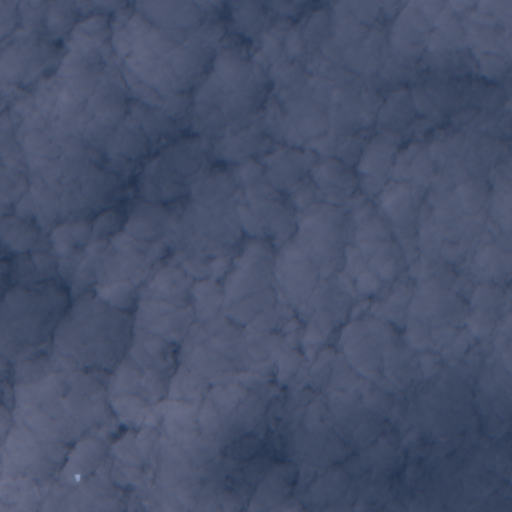Iceberg: (75, 475, 79, 480)
